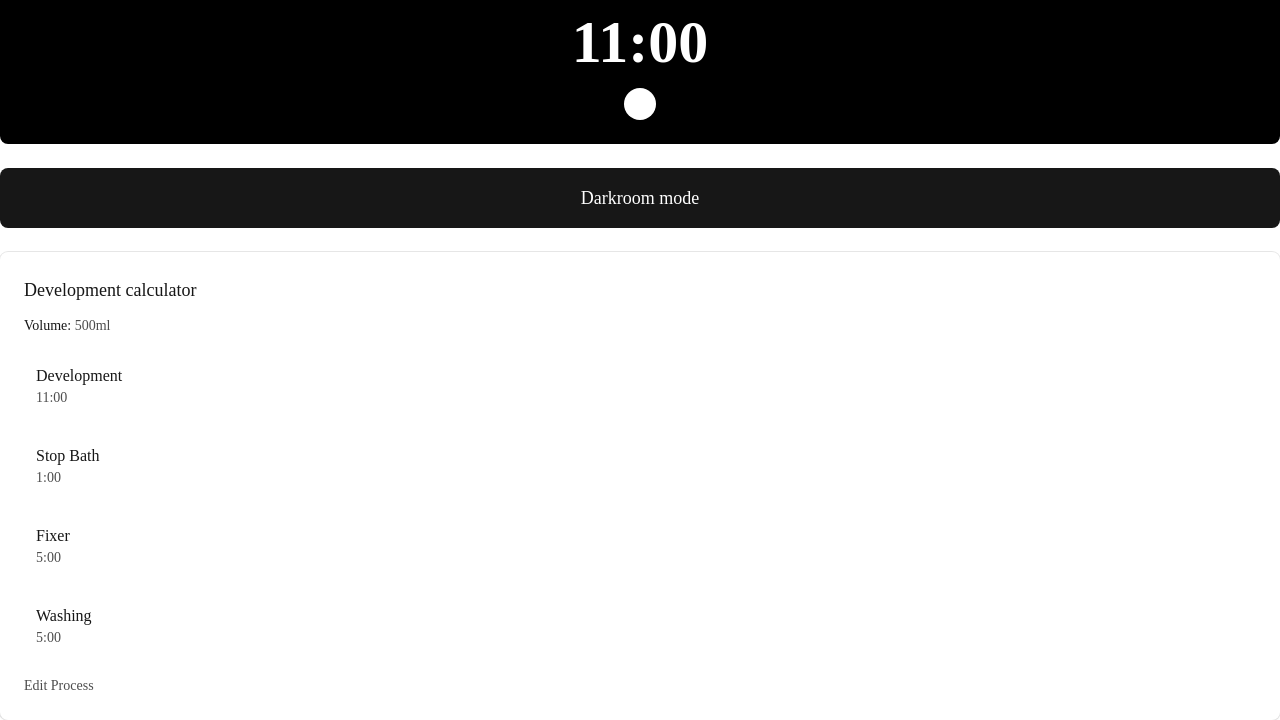
Timer Component › opens edit modal when edit button is clicked
(page scrolled)
Find and click the edit button
Click the button "Edit Process".
click(59, 686)  # box left=24, top=676, right=94, bottom=696
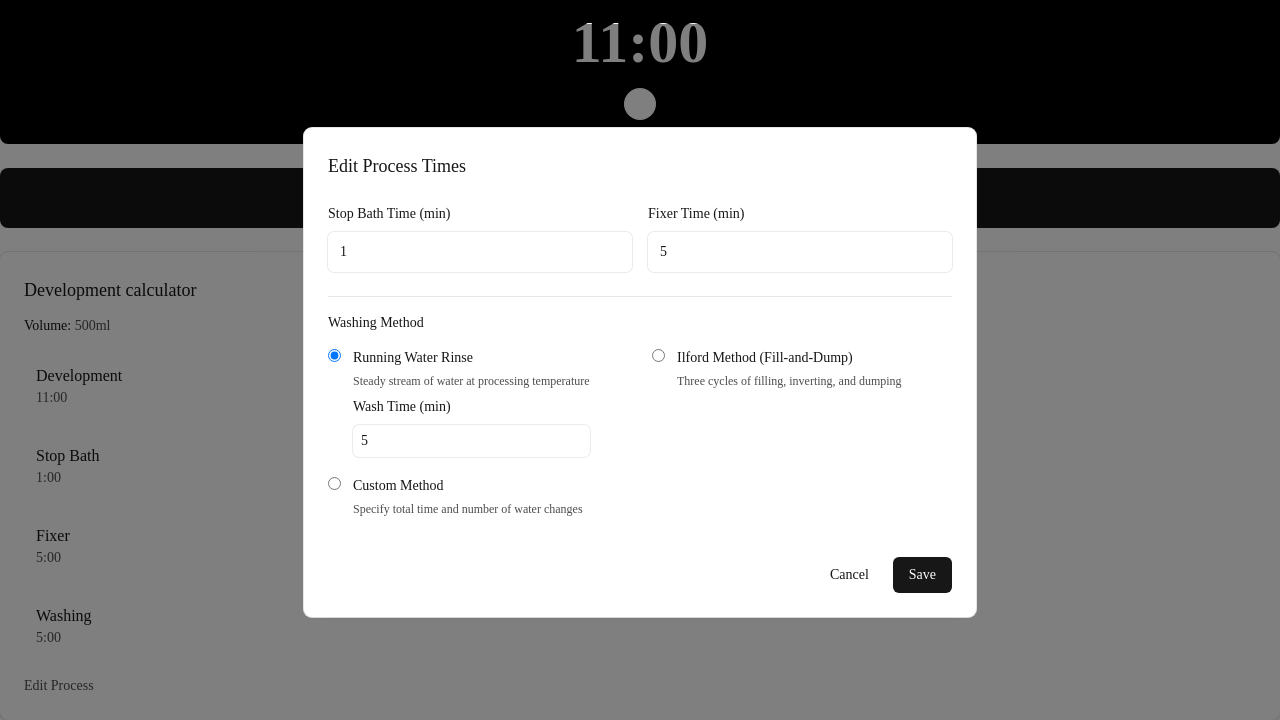
Expected: the heading "Edit Process Times" is shown, left=328, top=156, right=466, bottom=176
